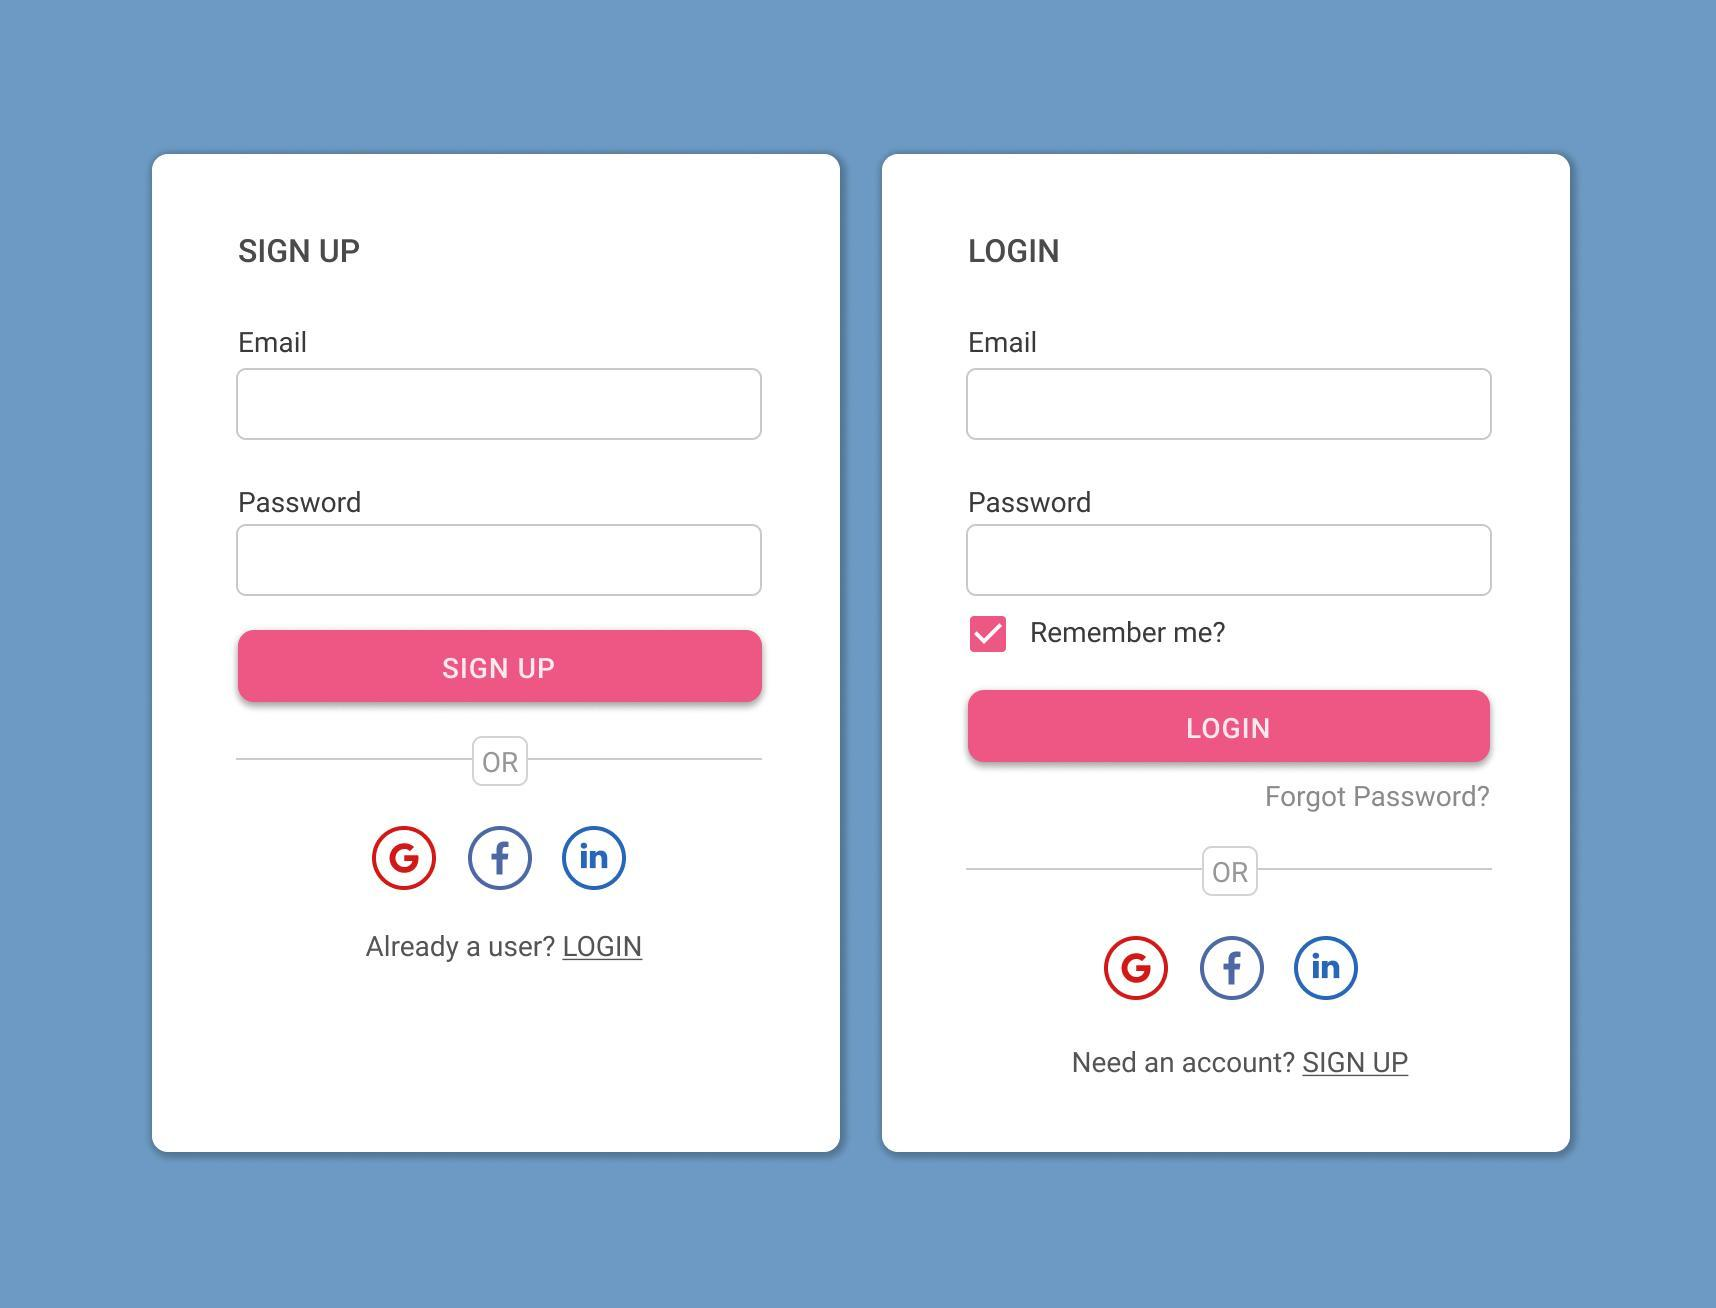button: (971, 686, 1493, 769), (234, 628, 763, 706)
icon: (558, 823, 629, 893), (1291, 936, 1359, 1002), (468, 822, 530, 890), (1198, 938, 1268, 999), (1103, 936, 1168, 999), (370, 828, 436, 889)
input: (969, 521, 1493, 599), (964, 365, 1493, 442), (234, 368, 767, 444), (234, 526, 767, 596)
label: (231, 228, 376, 271), (225, 484, 368, 523), (949, 229, 1076, 273), (969, 484, 1099, 519), (963, 326, 1057, 359), (231, 322, 311, 359)
